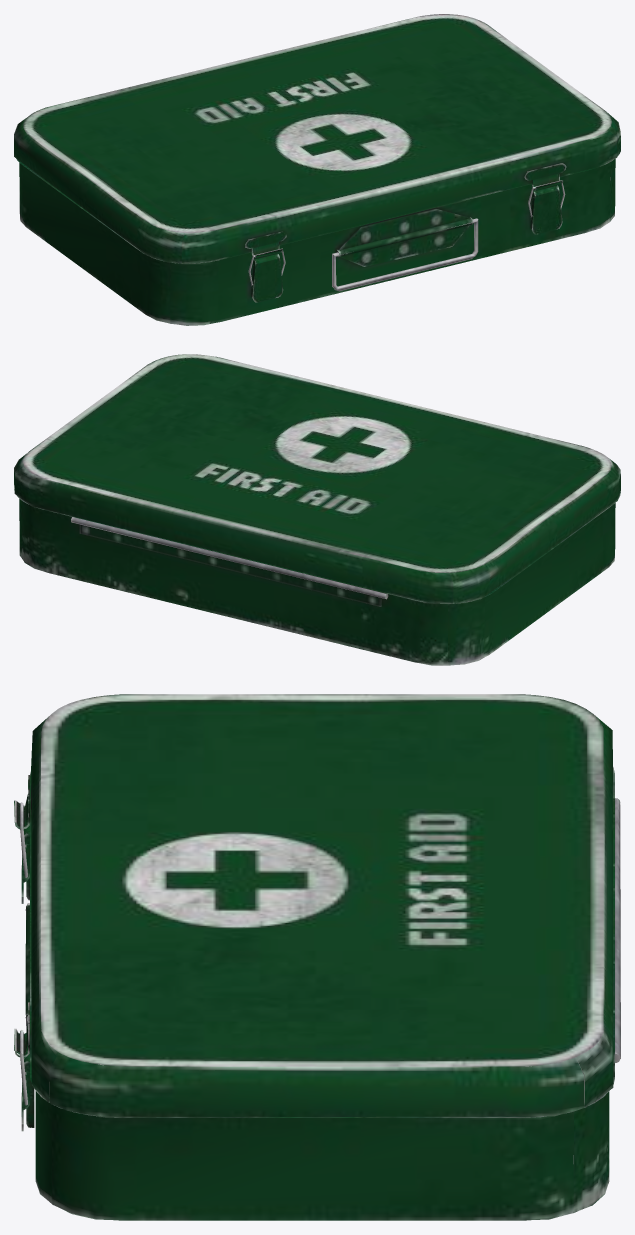
Rendered from medical_box_1k.gltf.
3 renders of one model, top to bottom at view 1: azimuth 30°, elevation 25°; view 2: azimuth 150°, elevation 25°; view 3: azimuth 270°, elevation 25°, orthographic. The views are drawn at different scales.
Visible parts, largest first — view 1: medical_box_lid_LOD0, medical_box_LOD0, medical_box_latch_LOD0, medical_box_handle_LOD0; view 2: medical_box_lid_LOD0, medical_box_LOD0; view 3: medical_box_lid_LOD0, medical_box_LOD0.
Part boxes in pixels (box(x1,y1,x2,y2)): medical_box_lid_LOD0: box(14, 14, 620, 263); medical_box_LOD0: box(19, 159, 615, 325); medical_box_latch_LOD0: box(251, 185, 562, 302); medical_box_handle_LOD0: box(332, 218, 478, 291); medical_box_lid_LOD0: box(14, 354, 620, 603); medical_box_LOD0: box(19, 499, 615, 665); medical_box_lid_LOD0: box(14, 694, 614, 1117); medical_box_LOD0: box(25, 798, 620, 1220).
Size of what is drawn, in the model's own units: 0.5255 by 0.0973 by 0.3509.
Materials: 1 (1 with a texture image).
